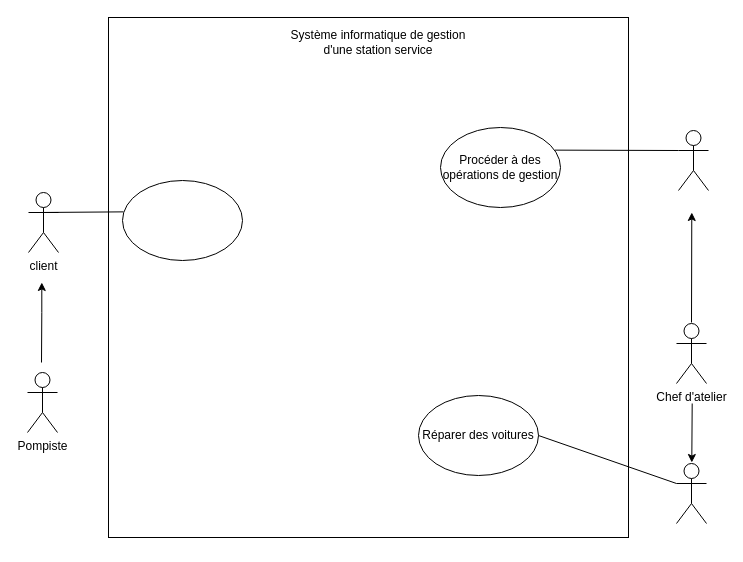
The diagram is 743 pixels wide and 562 high, and some of its shapes have lost their labels. Each missing label, with the centre of its shape:
"Gérant" belongs at (693,160).
"Mécanicien" belongs at (691,493).
"Prendre de l'essence" belongs at (182,220).
